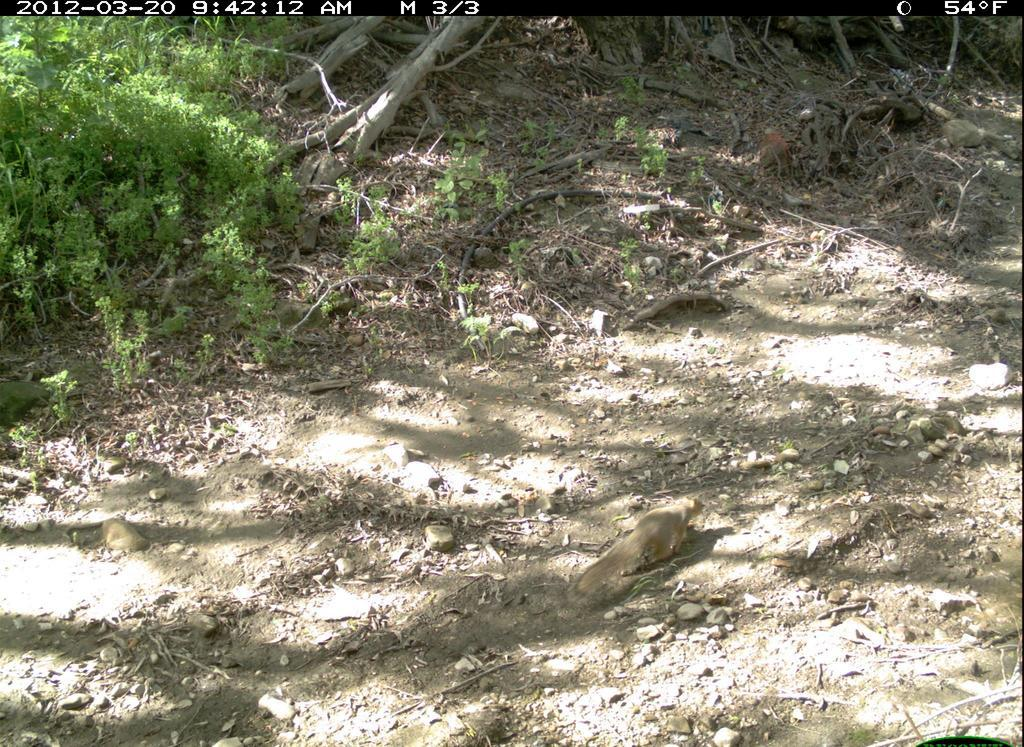squirrel: (568, 491, 711, 606)
